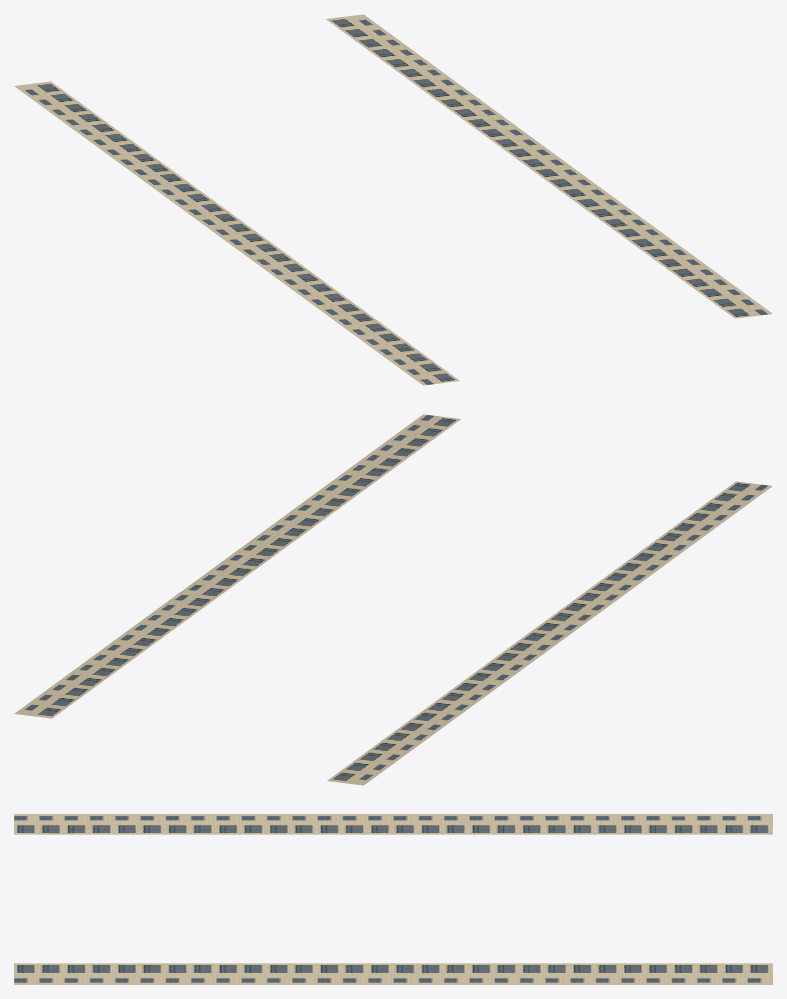
The model's file is data16.glb.
3 renders of one model, top to bottom at view 1: azimuth 30°, elevation 25°; view 2: azimuth 150°, elevation 25°; view 3: azimuth 270°, elevation 25°, orthographic. The views are drawn at different scales.
Parts seen in each view (by area): view 1: data16; view 2: data16; view 3: data16.
Boxes of the visible parts, left/top/right/bottom form: data16: left=14, top=14, right=772, bottom=385; data16: left=14, top=414, right=772, bottom=785; data16: left=14, top=814, right=772, bottom=984.
Bounding box in the file's own units: 44.41 × 1.66 × 90.
1 material, 1 textured.
